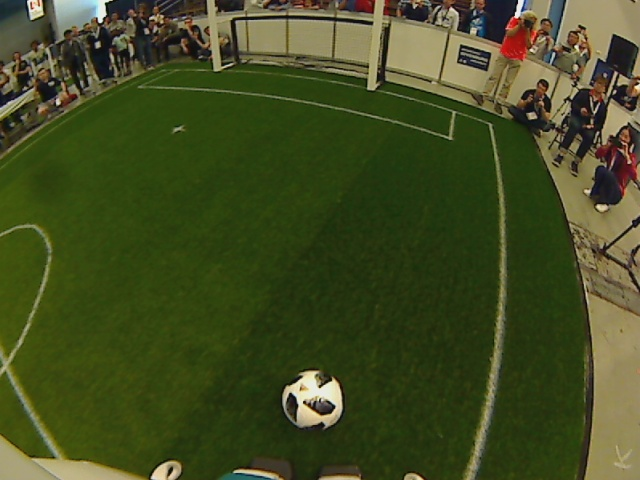ball: (279, 369, 345, 432)
